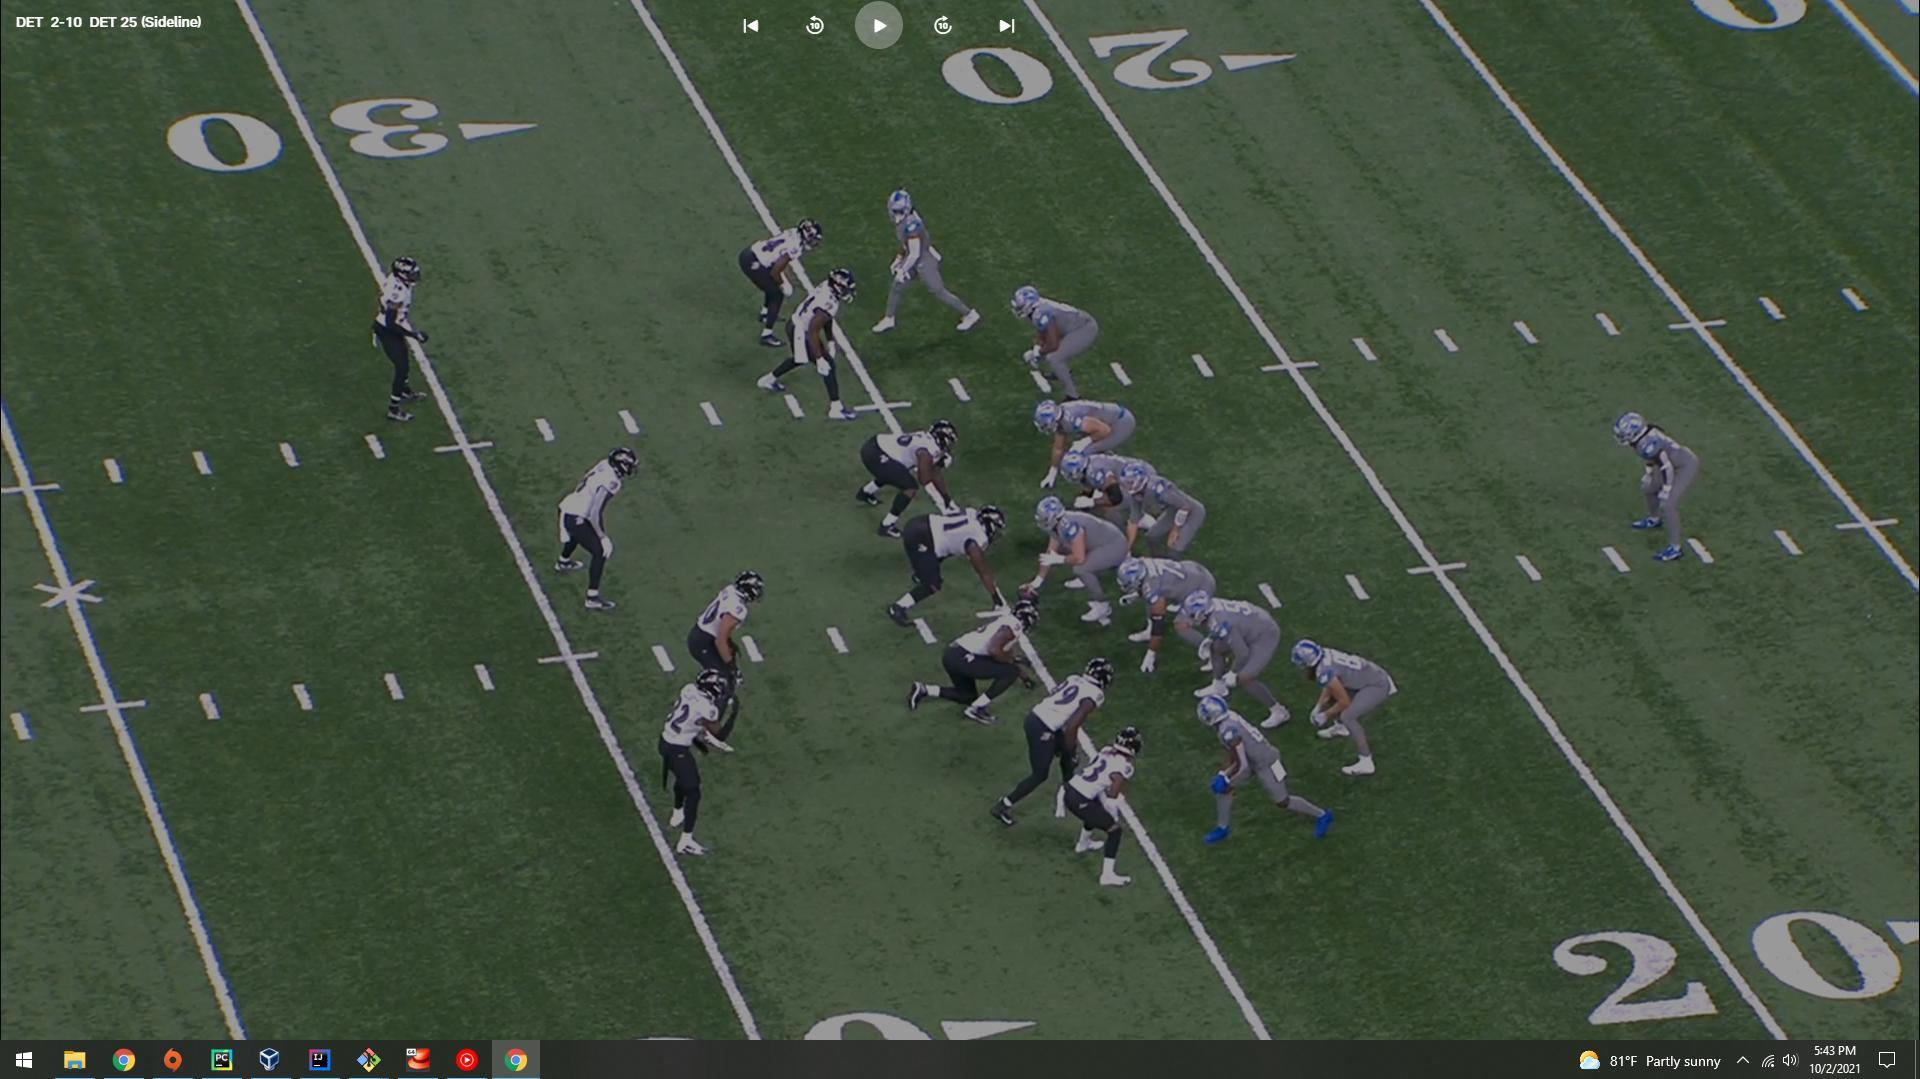player: (1193, 690, 1341, 852), (997, 656, 1121, 836), (912, 593, 1054, 730), (868, 182, 978, 340), (1282, 637, 1395, 788), (757, 269, 860, 426), (1613, 405, 1712, 568), (895, 504, 1011, 633), (560, 443, 645, 616), (652, 675, 727, 861), (1185, 590, 1286, 727), (1027, 500, 1129, 634), (1062, 729, 1141, 898), (851, 420, 956, 545), (688, 566, 757, 752), (1113, 555, 1211, 676), (747, 215, 830, 352), (1014, 284, 1106, 402), (375, 256, 436, 432), (1028, 394, 1131, 492), (1124, 461, 1209, 557), (1061, 447, 1153, 521)
